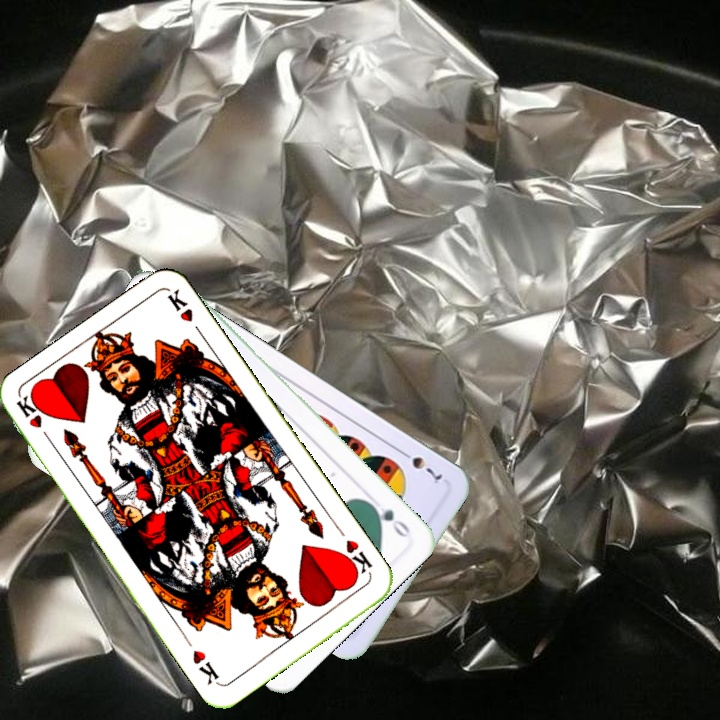GO: (364, 498, 414, 541)
HK: (12, 392, 56, 447), (336, 535, 375, 580)
S7: (395, 445, 445, 487)
